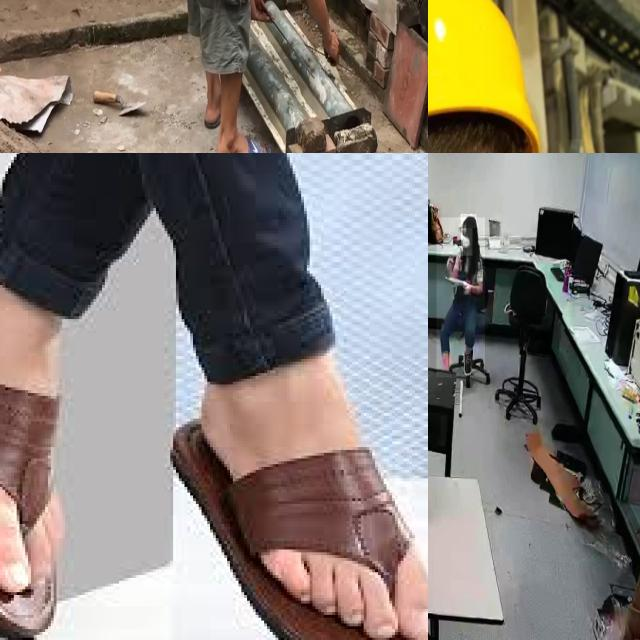Ear-protection: (428, 0, 581, 153)
Sandals: (171, 379, 428, 640), (0, 257, 72, 640), (215, 127, 271, 153)
face_mask: (461, 228, 473, 256)
hand_noglove: (322, 14, 344, 65), (446, 255, 454, 271), (464, 280, 472, 296)
head_nohelmet: (461, 214, 477, 229)
person: (436, 218, 486, 378)
shoes: (461, 351, 475, 378)
